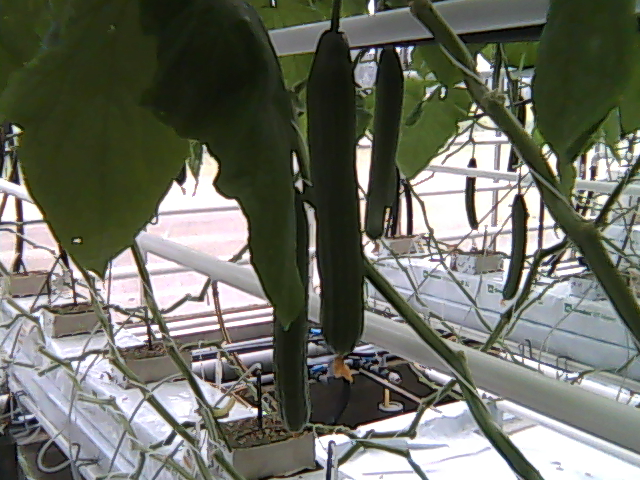concombre: (304, 26, 367, 382), (269, 169, 315, 437)
